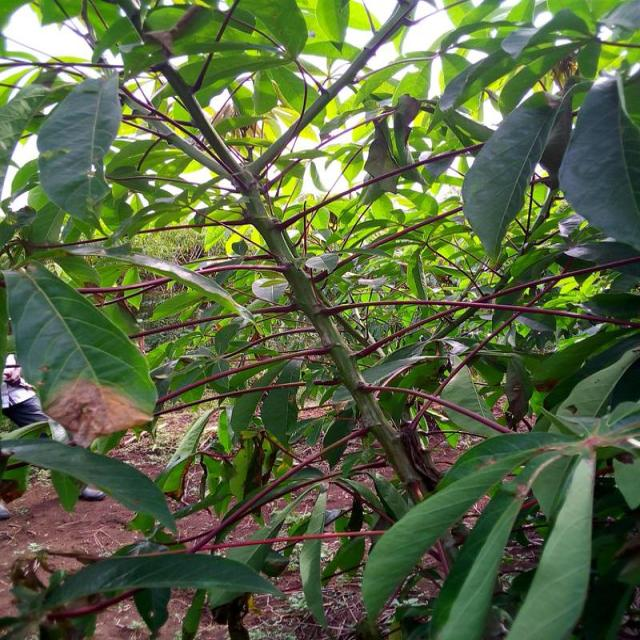cassava leaf: (4, 258, 160, 447), (461, 88, 569, 262), (558, 68, 640, 252), (37, 71, 123, 223)
